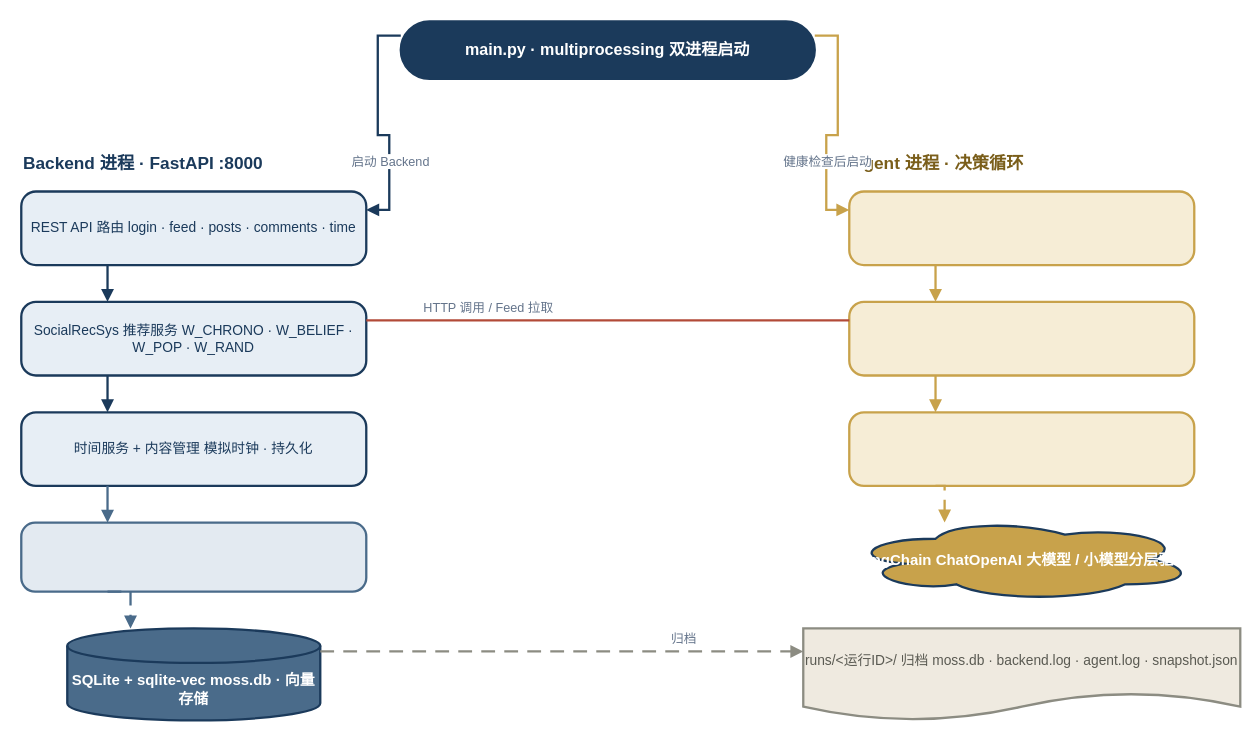
Some shapes in this 1260 by 741 pixel diagram are drawn without their labels. The shapes that lost their labels are listed below. From the top down, each one's box as (x1, y1, x2, y2) in pixels, then its label:
(848, 190, 1195, 266): AgentGraph 调度 遍历已配置 Agent · agents.csv
(848, 300, 1195, 376): 决策循环 发帖 / 评论 / 点赞 / 转发 / 引用
(848, 411, 1195, 486): 记忆系统 检索 · 提示词构建
(20, 521, 367, 592): SentenceTransformer 嵌入 all-MiniLM-L6-v2
